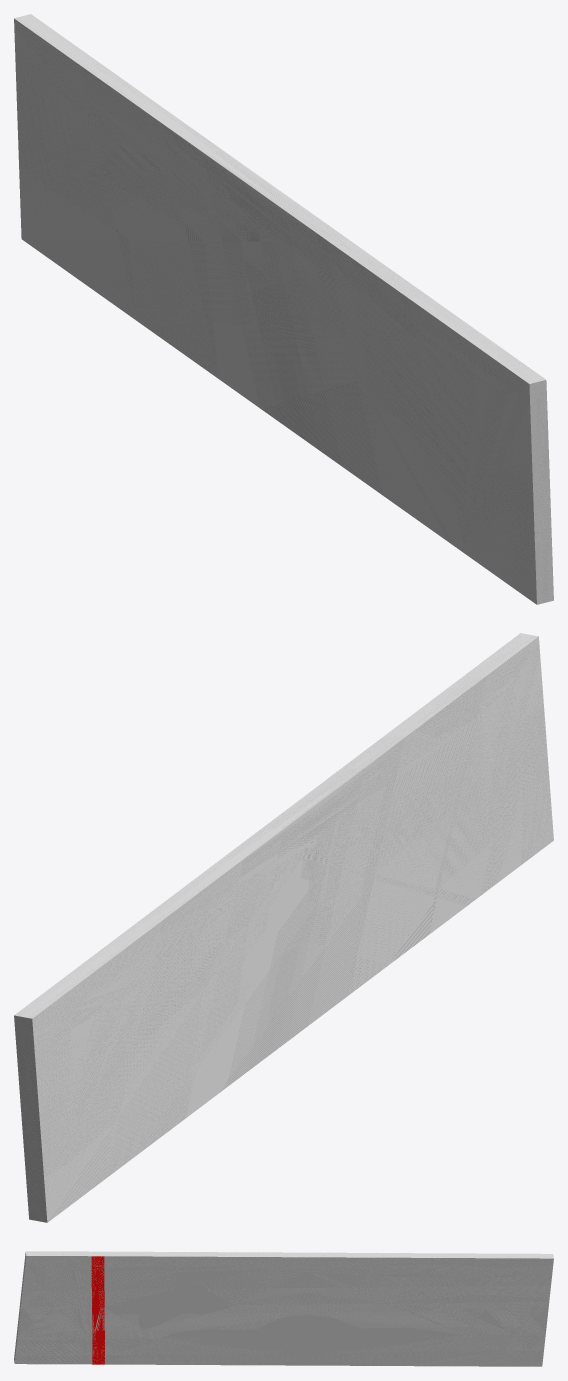
Rendered from frontWheelRightDoor.dae.
3 renders of one model, top to bottom at view 1: azimuth 30°, elevation 25°; view 2: azimuth 150°, elevation 25°; view 3: azimuth 270°, elevation 25°, orthographic. The views are drawn at different scales.
Visible parts, largest first — view 1: group_0 (×3); view 2: group_0 (×3); view 3: group_0 (×4).
Boxes of the visible parts, left/top/right/bottom form: group_0 (×3): left=14, top=14, right=553, bottom=604; group_0 (×3): left=14, top=633, right=553, bottom=1222; group_0 (×4): left=14, top=1251, right=553, bottom=1366.
Size of the model in its own units: 2.61 by 92.1 by 21.31.
